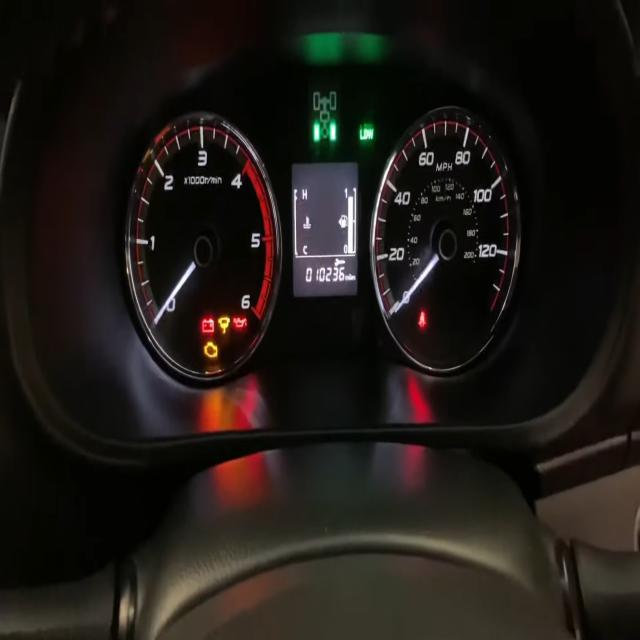Charging System Issue: (202, 318, 214, 333)
Check Engine: (204, 341, 218, 358)
Low Engine Oil Warning Light: (233, 316, 247, 328)
